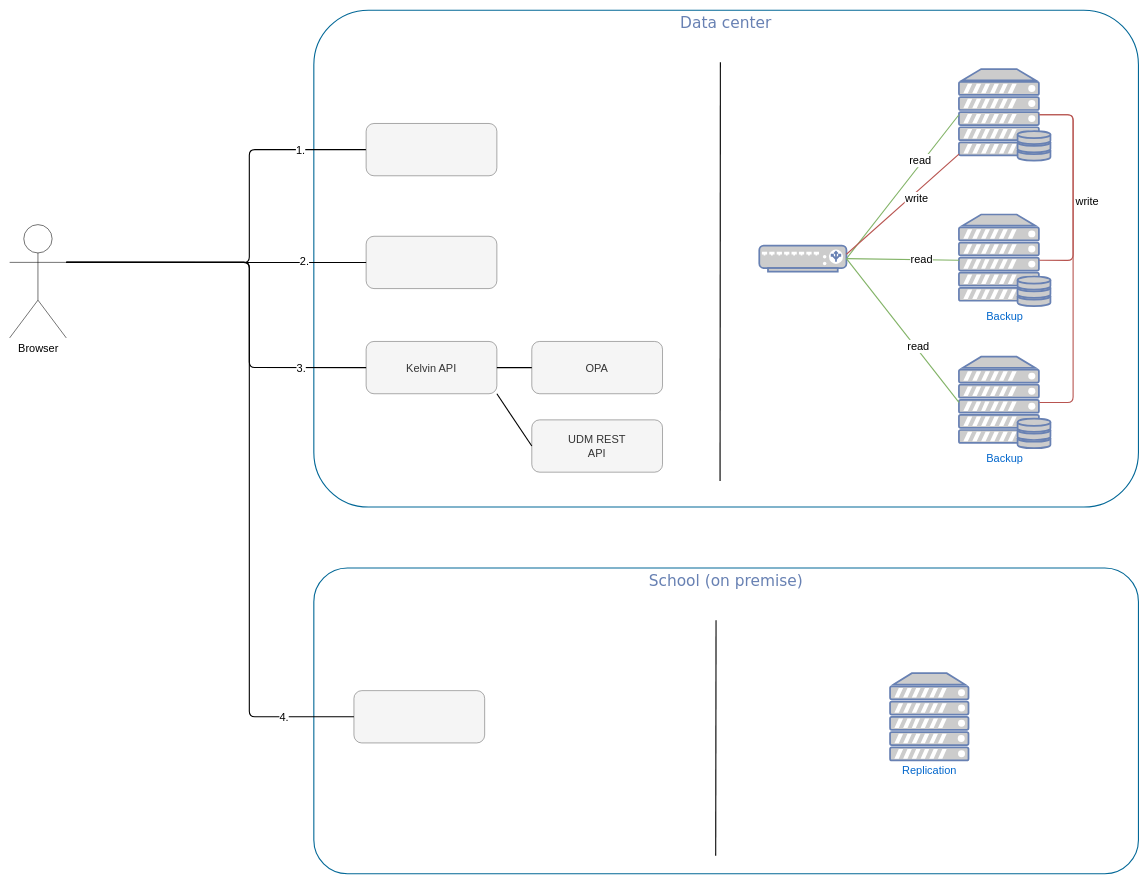
The diagram is 1148 pixels wide and 883 high, and some of its shapes have lost their labels. The shapes that lost their labels are listed below. From the top down, each one's centre as x and y in pixels, then its label:
point 1004,114: Primary
point 431,149: IdP (Oauth)
point 431,262: Load UMC Frontend
point 802,258: Load Balancer
point 419,716: Local Service APIs
